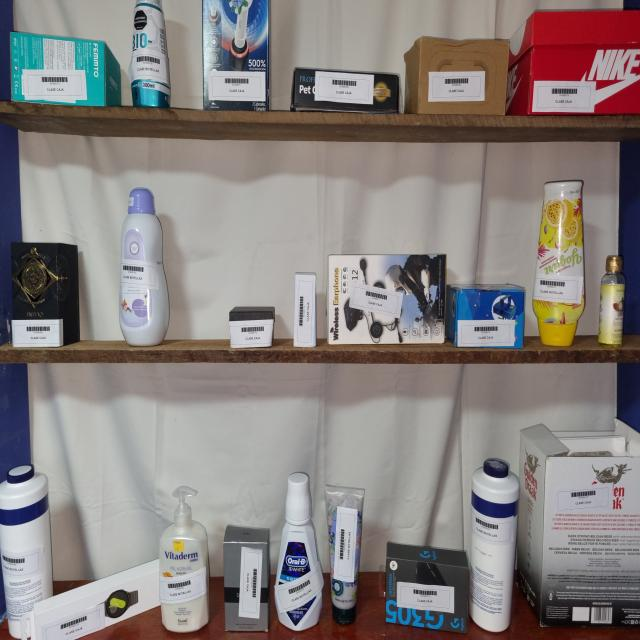botella: (0, 465, 53, 638), (532, 180, 585, 346), (469, 458, 519, 631), (274, 472, 324, 631), (119, 188, 169, 346), (159, 486, 209, 632), (325, 485, 365, 625), (129, 0, 171, 108), (598, 255, 626, 348)
caja: (517, 424, 640, 627), (506, 10, 640, 115), (21, 559, 160, 640), (328, 254, 446, 344), (404, 37, 509, 115), (11, 32, 121, 106), (385, 542, 469, 633), (203, 0, 270, 111), (11, 242, 80, 348), (445, 284, 525, 349), (291, 68, 400, 114), (223, 525, 270, 631), (229, 306, 275, 348), (294, 272, 316, 347)
